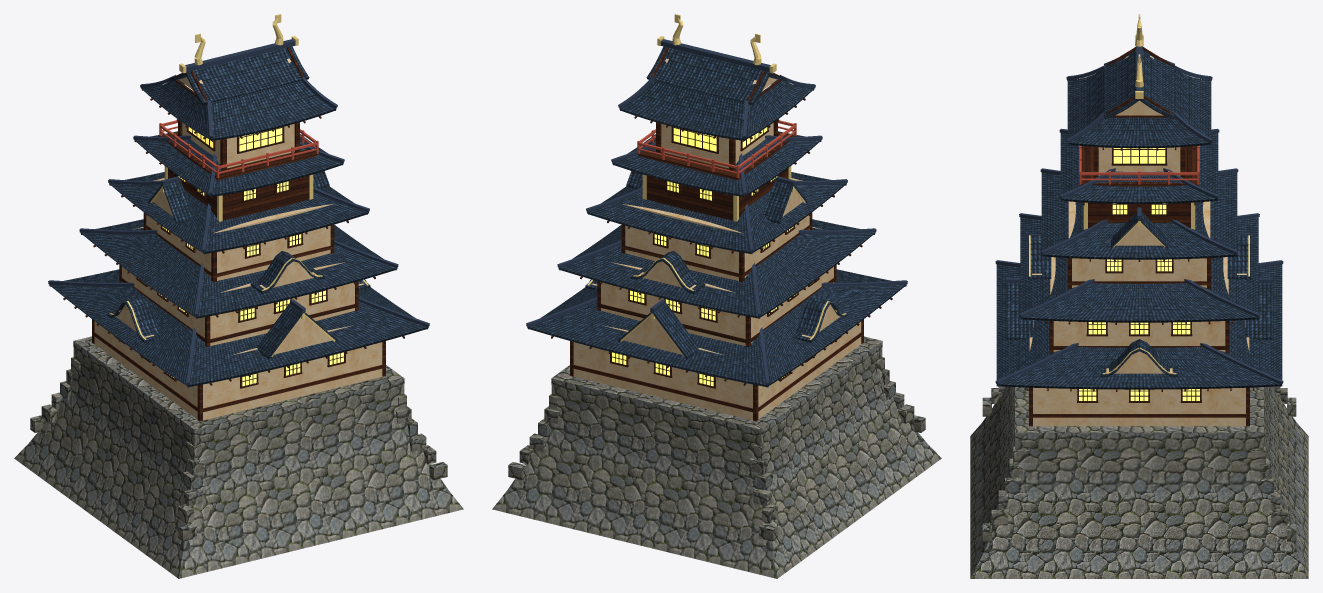
File: castle_tenshukaku.glb
3 renders of one model, left to right at view 1: azimuth 30°, elevation 25°; view 2: azimuth 150°, elevation 25°; view 3: azimuth 270°, elevation 25°, orthographic. The views are drawn at different scales.
Parts seen in each view (by area): view 1: tenshukaku_castle_stone, tenshukaku_kawara, tenshukaku_plaster, tenshukaku_charred, tenshukaku_shoji_glow, tenshukaku_vermilion, tenshukaku_gold_trim; view 2: tenshukaku_castle_stone, tenshukaku_kawara, tenshukaku_plaster, tenshukaku_charred, tenshukaku_shoji_glow, tenshukaku_vermilion, tenshukaku_gold_trim; view 3: tenshukaku_kawara, tenshukaku_castle_stone, tenshukaku_plaster, tenshukaku_charred, tenshukaku_shoji_glow, tenshukaku_gold_trim, tenshukaku_vermilion.
Boxes of the visible parts, left/top/right/bottom form: tenshukaku_castle_stone: left=14, top=336, right=463, bottom=578; tenshukaku_kawara: left=48, top=39, right=429, bottom=387; tenshukaku_plaster: left=94, top=58, right=382, bottom=420; tenshukaku_charred: left=63, top=47, right=404, bottom=421; tenshukaku_shoji_glow: left=159, top=127, right=343, bottom=386; tenshukaku_vermilion: left=159, top=120, right=318, bottom=178; tenshukaku_gold_trim: left=109, top=14, right=368, bottom=356; tenshukaku_castle_stone: left=492, top=336, right=941, bottom=578; tenshukaku_kawara: left=526, top=39, right=907, bottom=387; tenshukaku_plaster: left=573, top=58, right=861, bottom=420; tenshukaku_charred: left=551, top=47, right=892, bottom=421; tenshukaku_shoji_glow: left=612, top=127, right=796, bottom=386; tenshukaku_vermilion: left=637, top=120, right=796, bottom=178; tenshukaku_gold_trim: left=587, top=14, right=846, bottom=356; tenshukaku_kawara: left=995, top=46, right=1283, bottom=389; tenshukaku_castle_stone: left=970, top=386, right=1308, bottom=578; tenshukaku_plaster: left=1029, top=55, right=1249, bottom=426; tenshukaku_charred: left=1024, top=47, right=1254, bottom=426; tenshukaku_shoji_glow: left=1079, top=148, right=1199, bottom=400; tenshukaku_gold_trim: left=1029, top=14, right=1249, bottom=374; tenshukaku_vermilion: left=1079, top=145, right=1199, bottom=184.
Bounding box in the file's own units: 14.8 × 22.78 × 14.8.
Materials: 7 (4 with a texture image).
